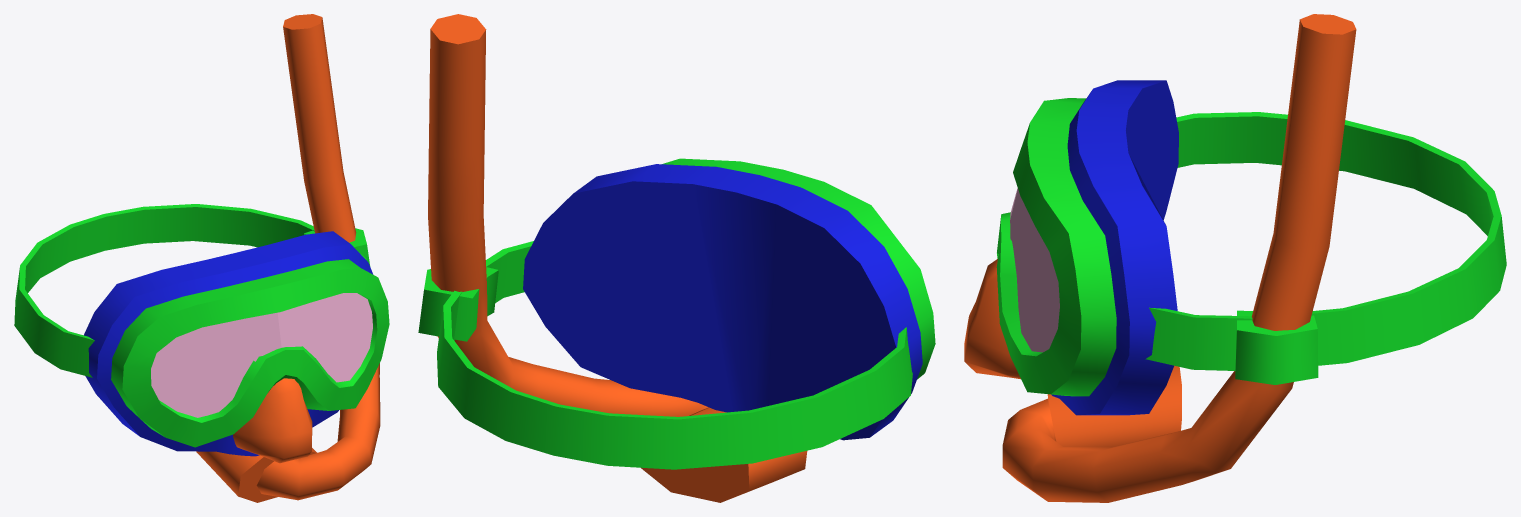
The model's file is Diving_mask.fbx.
The picture shows the model from 3 angles, left to right: view 1: azimuth 30°, elevation 25°; view 2: azimuth 150°, elevation 25°; view 3: azimuth 270°, elevation 25°; orthographic projection. The views are drawn at different scales.
Visible parts, largest first — view 1: Diving_mask.c, Diving_mask; view 2: Diving_mask.c, Diving_mask; view 3: Diving_mask.c, Diving_mask.
Boxes of the visible parts, x1,y1,x2,y2 form: Diving_mask.c: (84, 14, 389, 502); Diving_mask: (14, 204, 366, 377); Diving_mask.c: (418, 14, 935, 502); Diving_mask: (437, 241, 912, 469); Diving_mask.c: (964, 14, 1356, 502); Diving_mask: (1145, 112, 1506, 370).
Size of the model in its own units: 0.7133 by 0.7595 by 0.7123.
